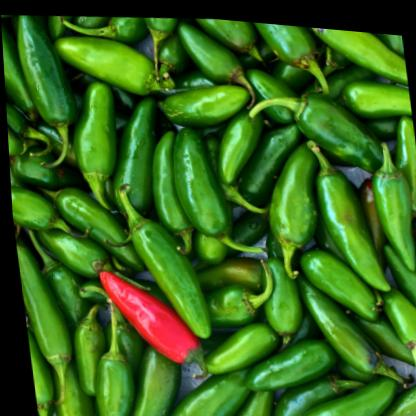--: (119, 172, 210, 345), (305, 131, 388, 291), (92, 260, 208, 374), (261, 132, 332, 283), (11, 11, 75, 174), (166, 122, 235, 255)
